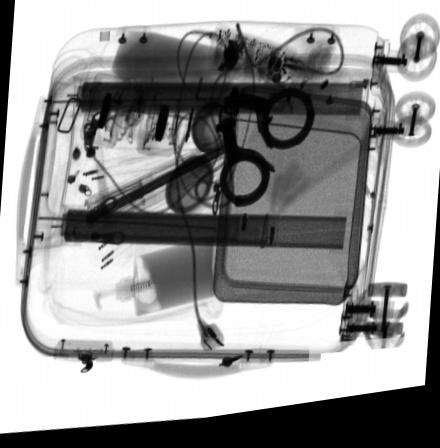HandCuffs: (213, 90, 316, 219)
